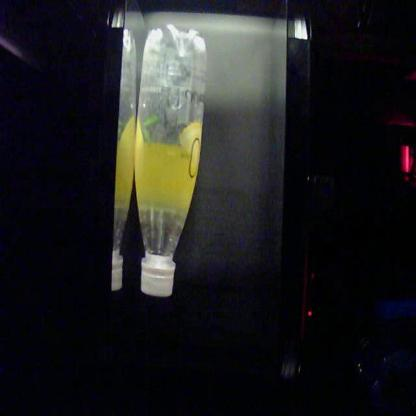Plastic Bottle: (135, 24, 207, 296)
